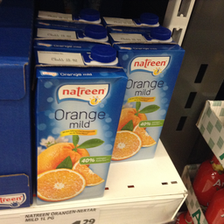juice: (34, 50, 126, 204), (109, 27, 185, 160)
